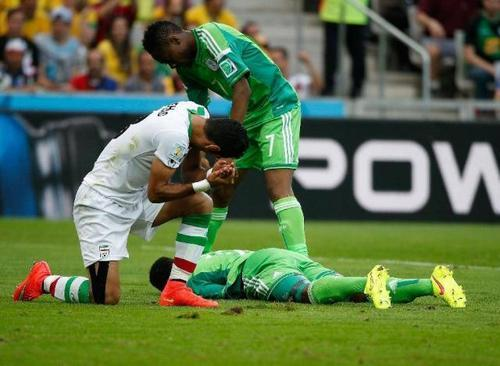bending: (10, 95, 248, 318), (156, 18, 330, 258)
down: (146, 245, 470, 316)
